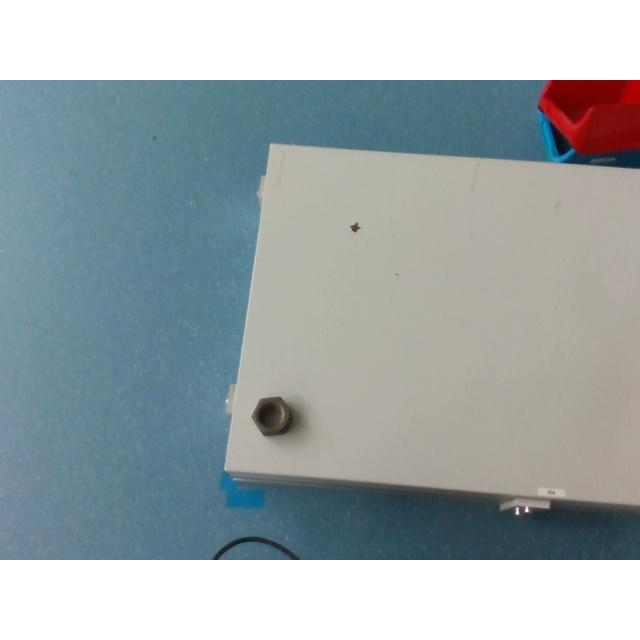M30: (250, 396, 294, 436)
